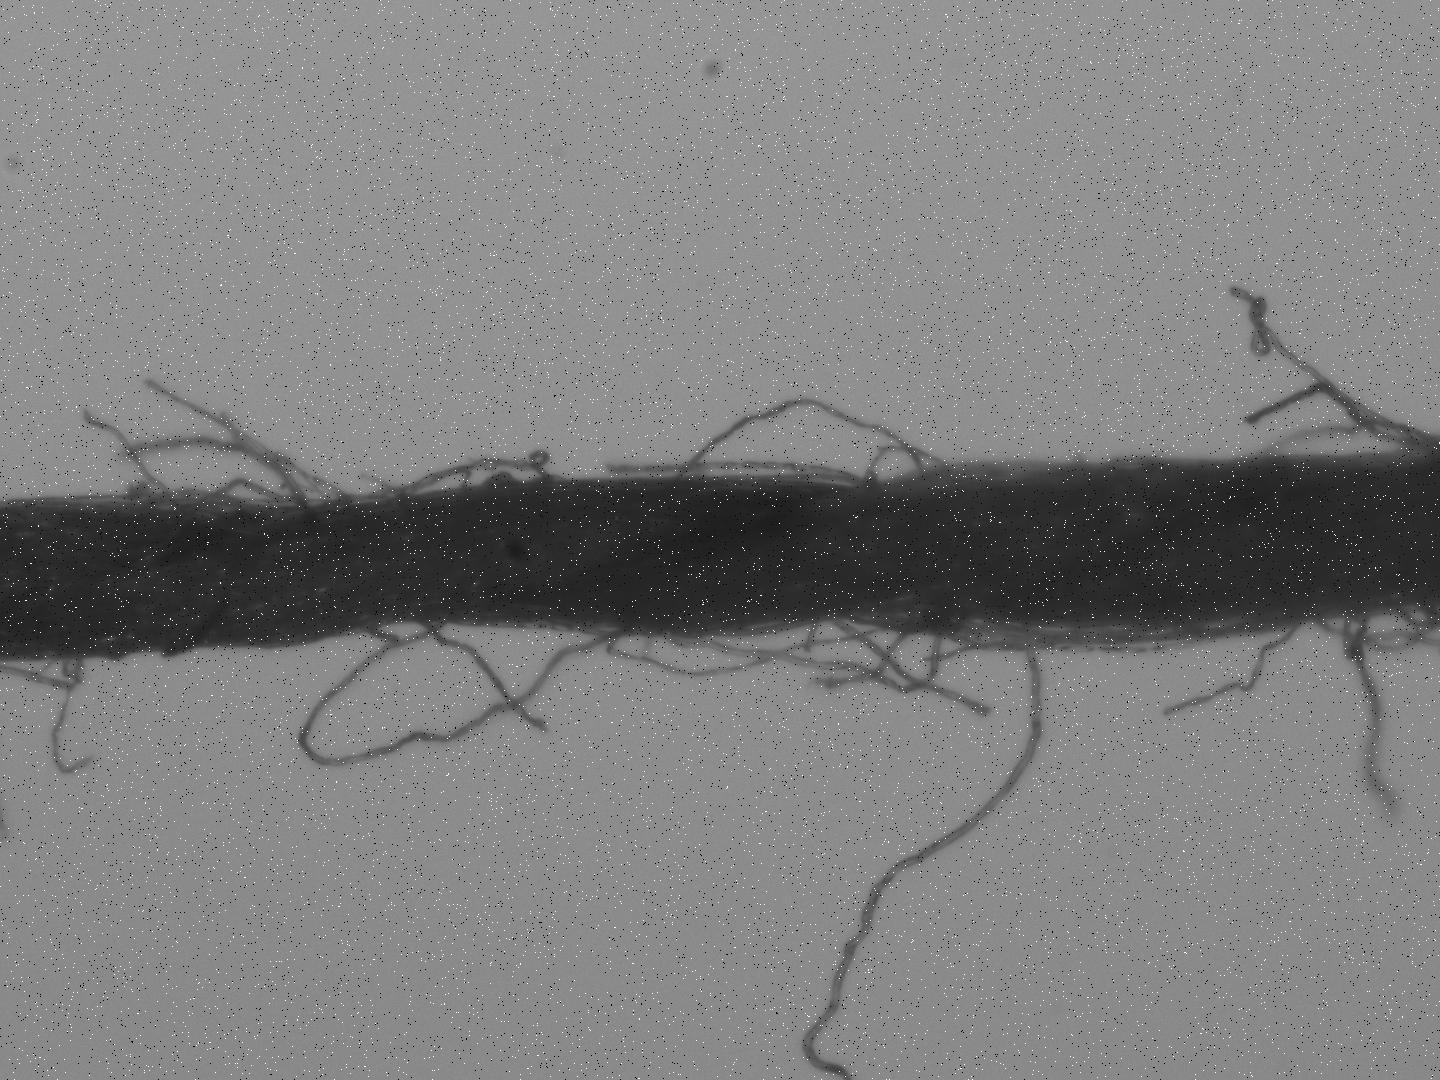loop_fiber: (297, 623, 604, 762), (671, 398, 922, 481), (612, 619, 873, 677), (359, 456, 558, 506), (1254, 420, 1422, 465), (1322, 607, 1431, 648), (195, 479, 291, 507)
protruding_fiber: (1157, 618, 1311, 719), (116, 439, 313, 511), (432, 622, 551, 739), (850, 625, 988, 715), (1357, 611, 1401, 812)
